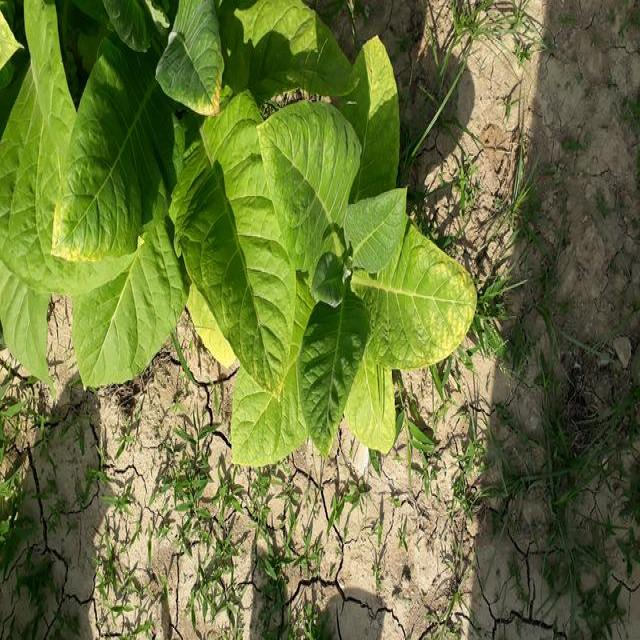crop: (1, 1, 482, 474)
